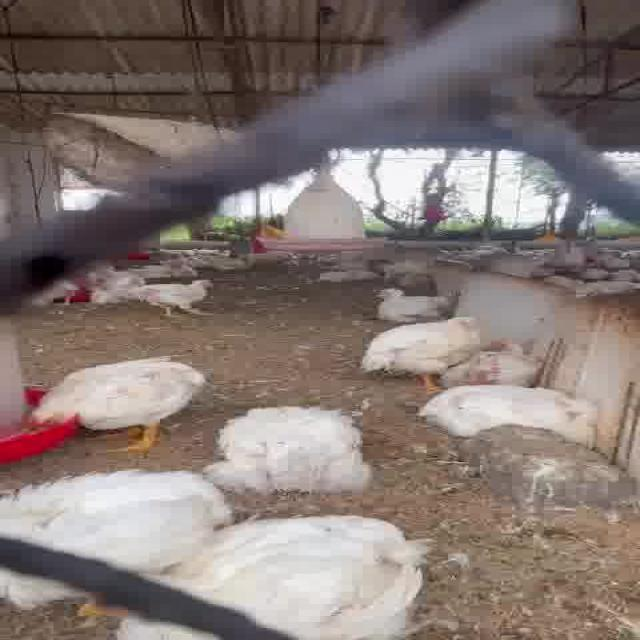AbNormal: (130, 512, 416, 638), (0, 468, 240, 601), (208, 402, 372, 492), (422, 383, 616, 450), (437, 344, 578, 399), (358, 286, 468, 324)
Normal: (22, 350, 219, 454), (360, 311, 492, 390), (128, 267, 225, 320)
